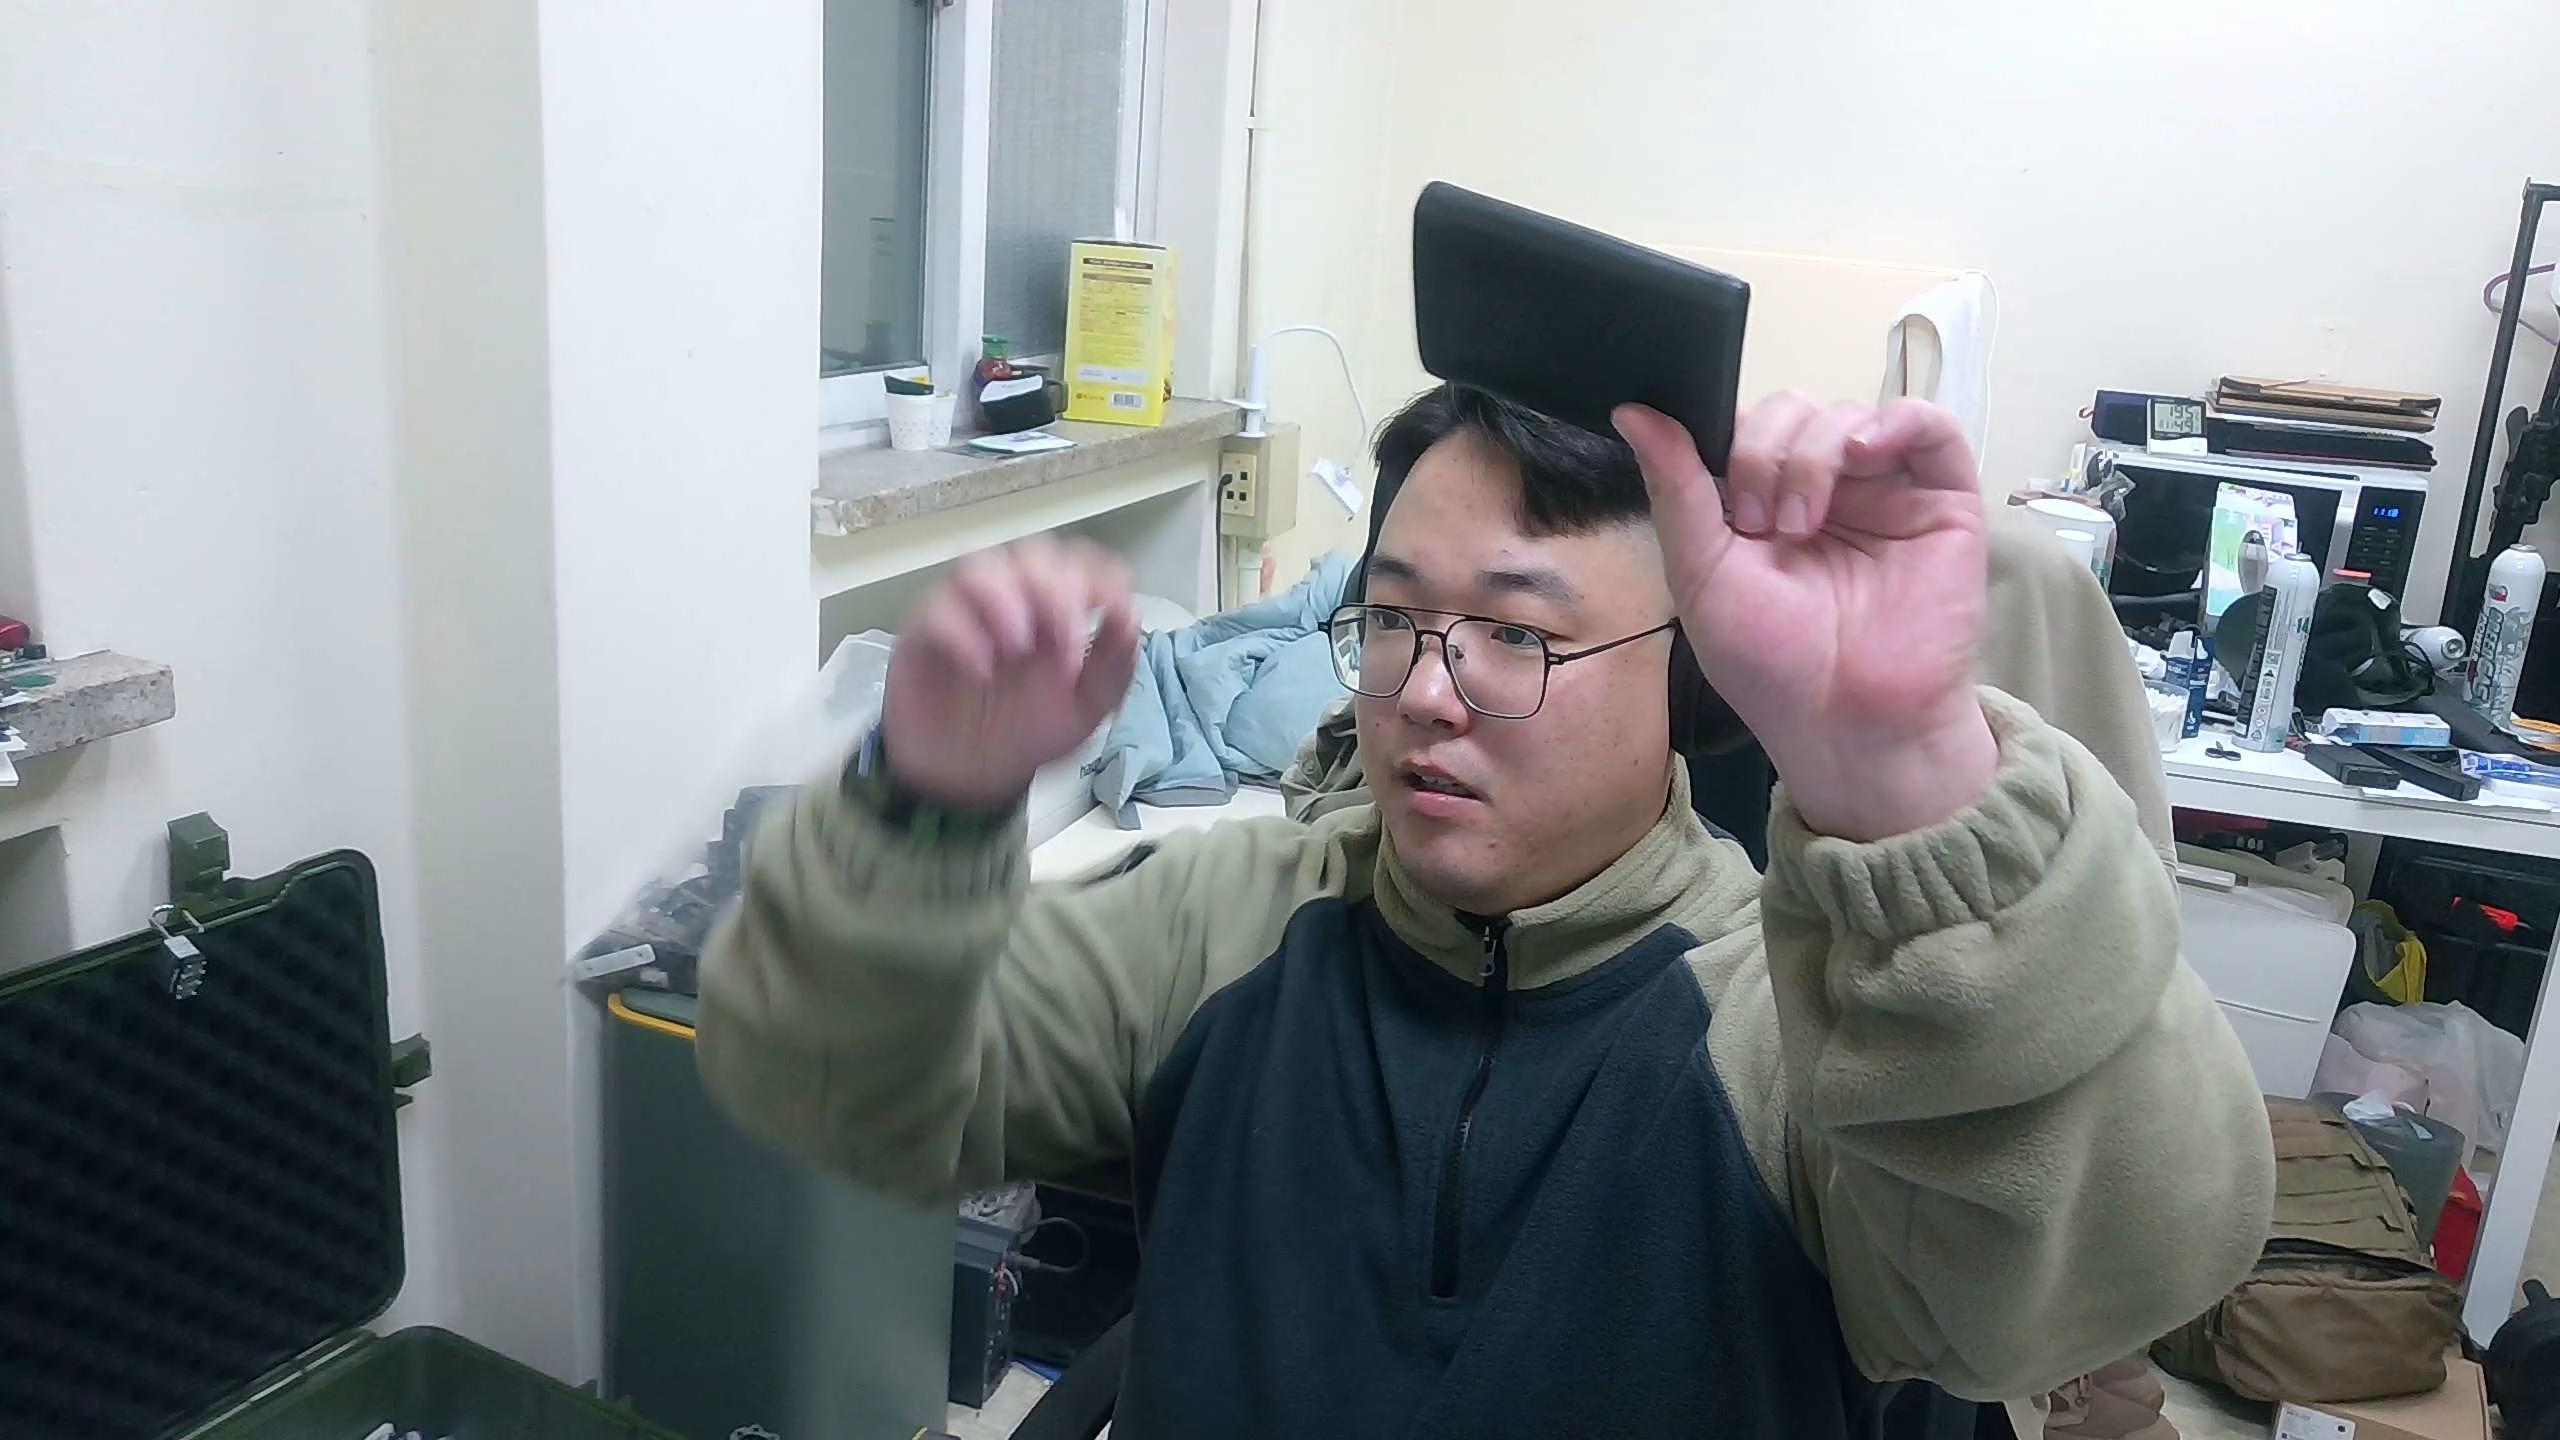Wallet: (1410, 176, 1755, 485)
